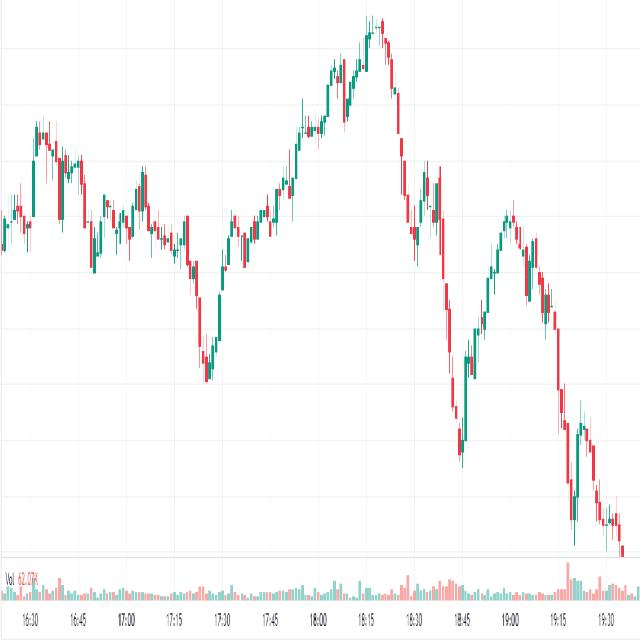Double-Bottom: (108, 185, 139, 258)
